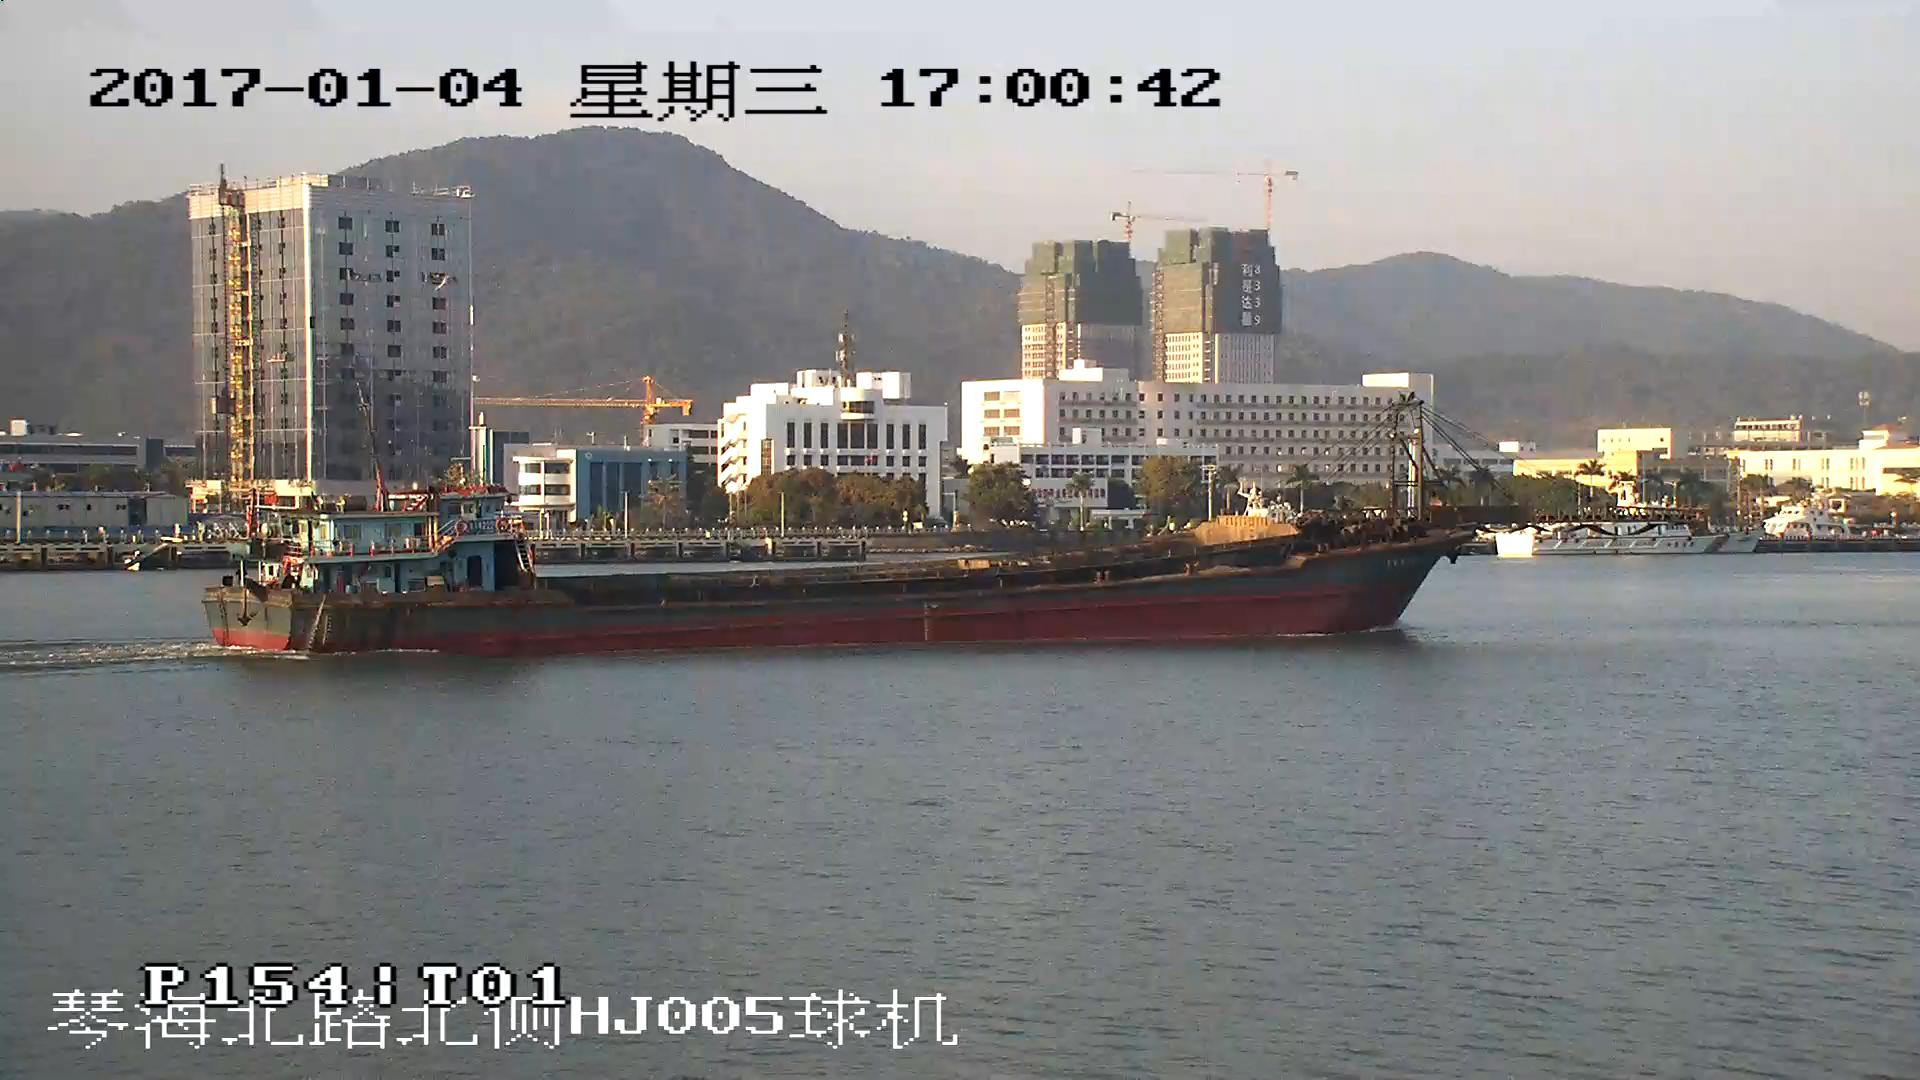bulk cargo carrier: (207, 400, 1679, 653)
